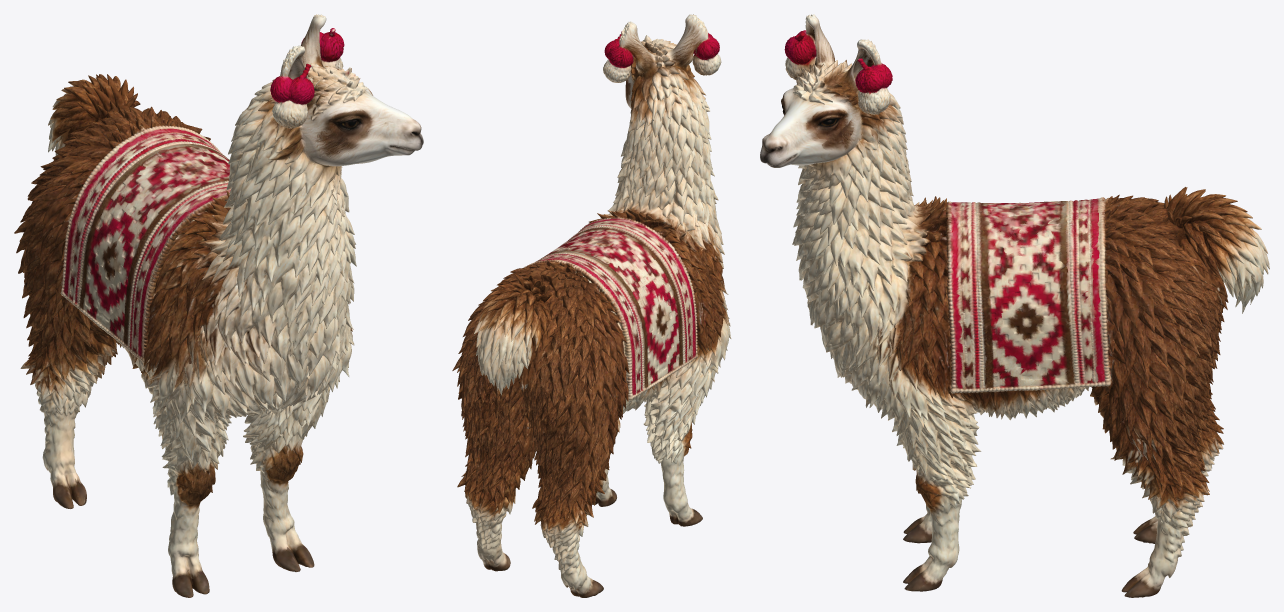
File: llama.glb
3 renders of one model, left to right at view 1: azimuth 30°, elevation 25°; view 2: azimuth 150°, elevation 25°; view 3: azimuth 270°, elevation 25°, orthographic. The views are drawn at different scales.
Parts seen in each view (by area): view 1: llama; view 2: llama; view 3: llama.
Boxes of the visible parts, box(x1,y1,x2,y2) form: llama: box(14, 14, 423, 597); llama: box(452, 14, 731, 597); llama: box(760, 14, 1269, 597).
Bounding box in the file's own units: 0.656 × 1.8 × 1.53.
Materials: 1 (1 with a texture image).
